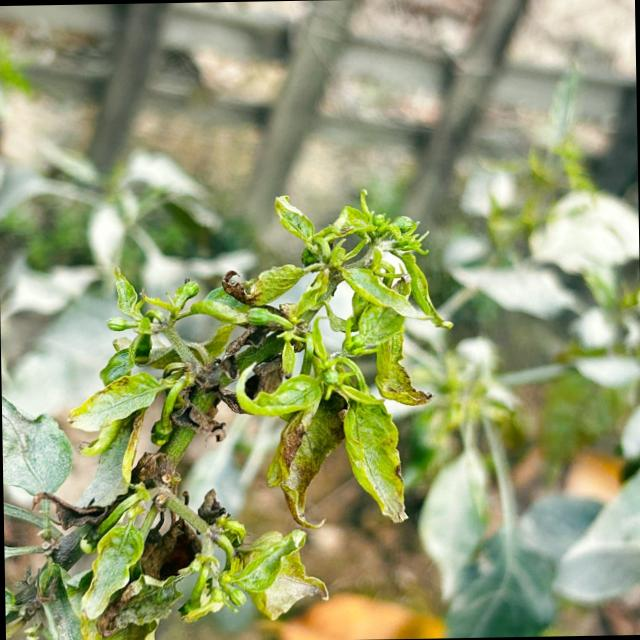Chilli_Leaf_Curl: (0, 185, 457, 640), (214, 186, 455, 530), (1, 392, 74, 503)
